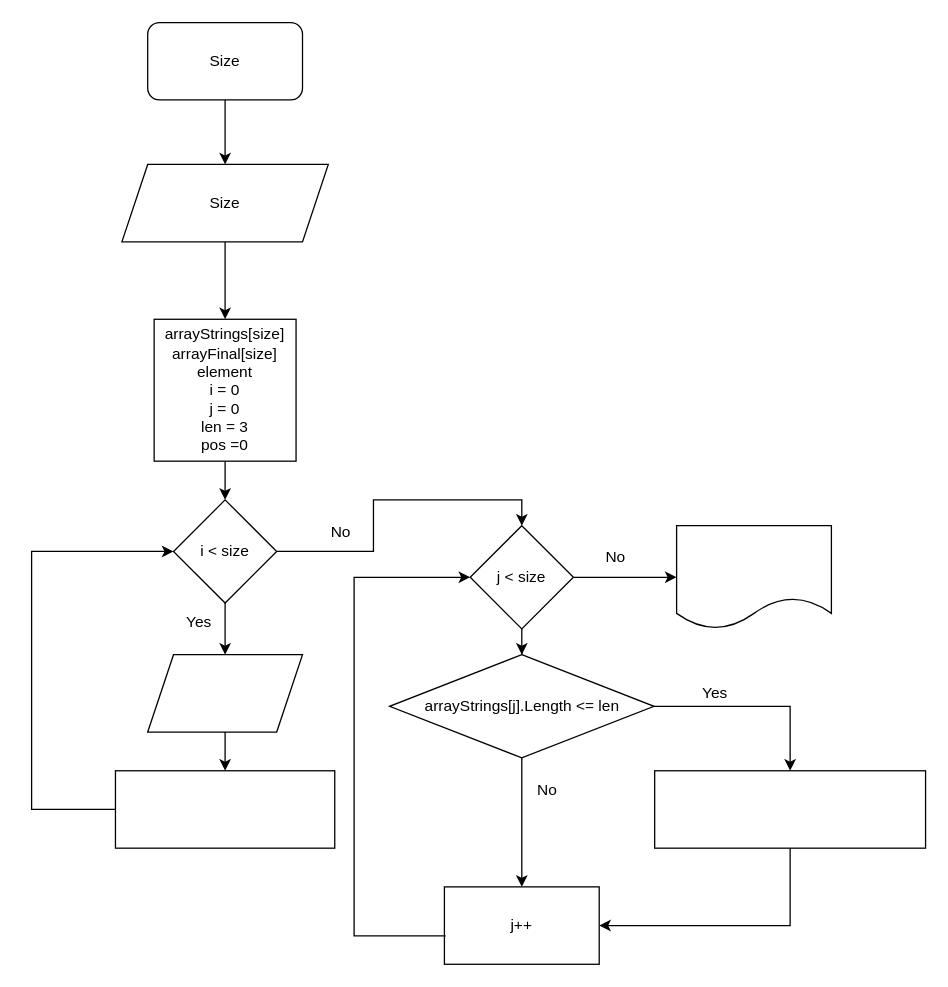
Image size: 948x987. Some labels were removed from this diagram. Here are the shapes that lost their labels. From the top down, the centre of each, then its label:
At (753,576): "arrayFinal".
At (224,692): "element".
At (224,808): "arrayStrings[i] = element i++".
At (789,808): "arrayFinal[pos] = array Strings[j] pos++".
